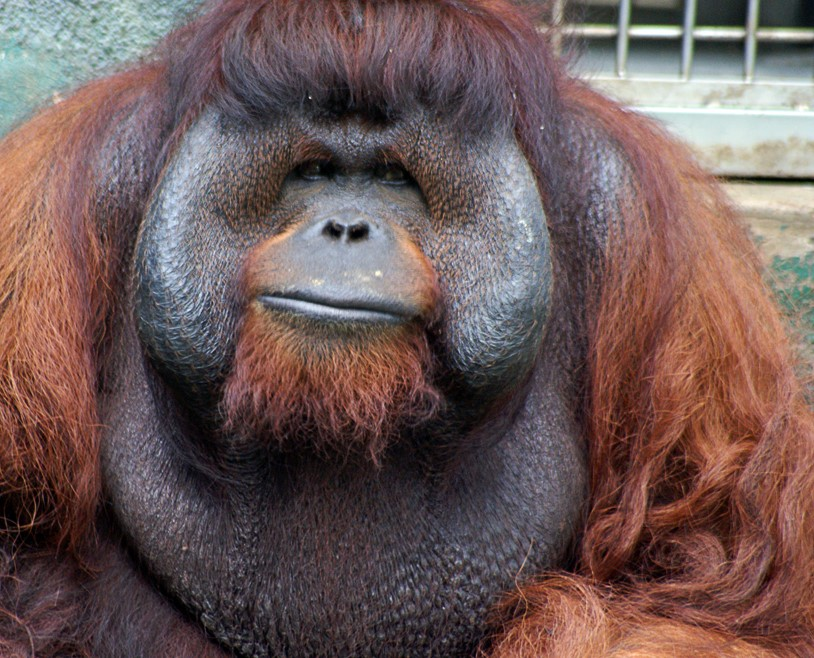Orangutan: (40, 11, 748, 645)
